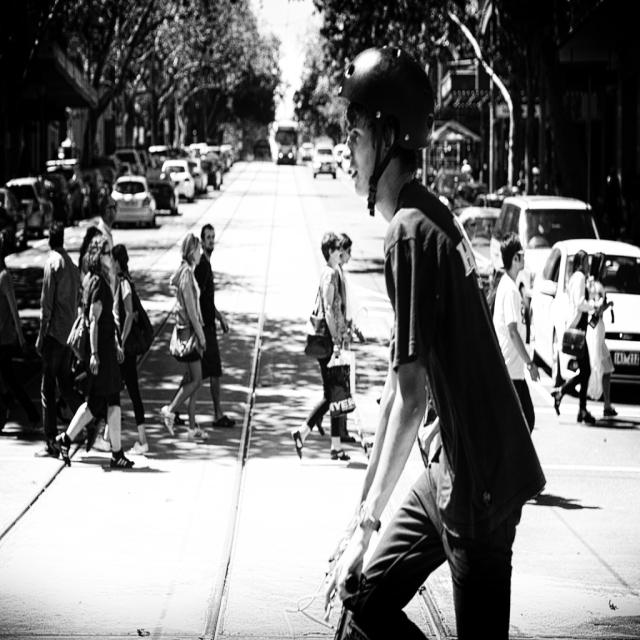car: (312, 146, 337, 185)
